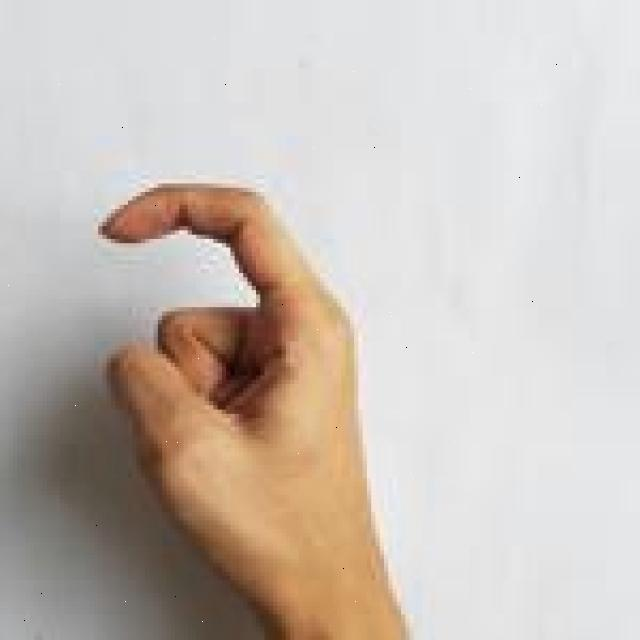X: (93, 173, 414, 640)
